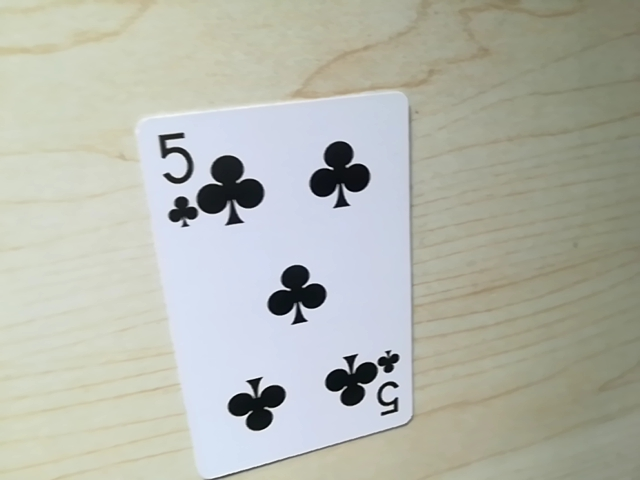mh 5: (151, 126, 202, 229), (370, 351, 406, 422)
